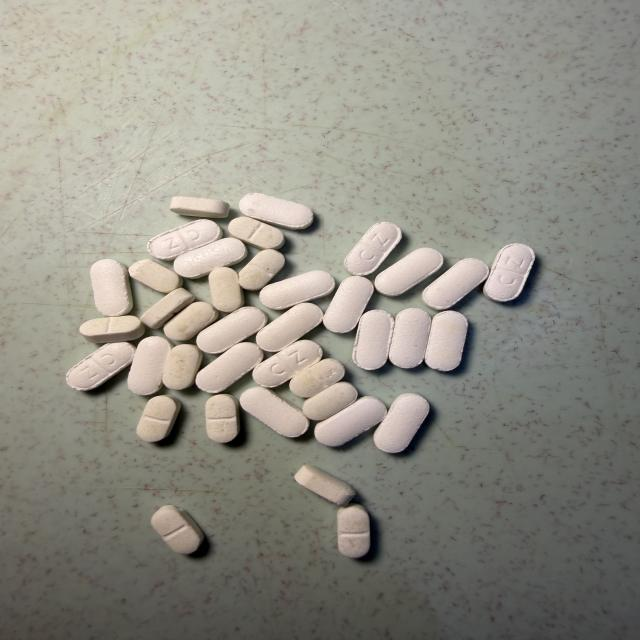pill: (315, 397, 386, 446), (240, 387, 309, 437), (423, 259, 489, 310), (196, 343, 263, 393), (66, 342, 135, 390), (375, 248, 443, 296), (374, 394, 429, 453), (253, 340, 322, 387), (197, 307, 267, 353), (256, 303, 322, 351), (344, 222, 401, 275), (147, 220, 222, 260), (484, 244, 535, 302), (260, 271, 335, 310), (174, 238, 247, 278), (324, 276, 373, 333), (239, 193, 313, 229), (151, 505, 204, 554), (425, 311, 468, 371), (128, 337, 172, 395), (389, 308, 431, 368), (353, 310, 394, 370), (295, 465, 355, 505), (90, 259, 132, 316), (141, 288, 195, 328), (164, 302, 218, 341), (290, 359, 344, 398), (303, 382, 357, 420), (137, 396, 180, 442), (239, 250, 285, 290), (129, 259, 182, 293), (228, 217, 284, 249), (337, 504, 370, 558), (79, 316, 144, 343), (163, 345, 202, 389), (205, 394, 239, 443), (209, 267, 244, 312), (170, 197, 229, 218)
